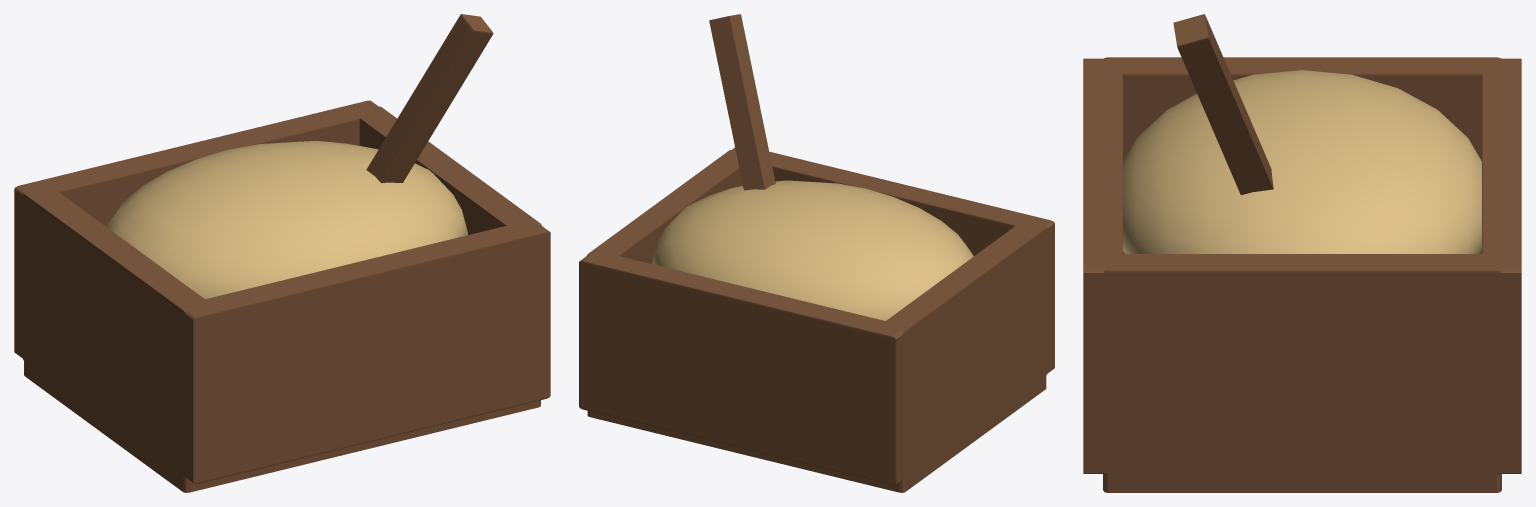
File: armory.glb
The picture shows the model from 3 angles, left to right: view 1: azimuth 30°, elevation 25°; view 2: azimuth 150°, elevation 25°; view 3: azimuth 270°, elevation 25°; orthographic projection. The views are drawn at different scales.
Parts seen in each view (by area): view 1: machines/armory; view 2: machines/armory; view 3: machines/armory.
Part boxes in pixels (x1,y1,x2,y2): machines/armory: (14, 14, 550, 492); machines/armory: (579, 14, 1054, 492); machines/armory: (1083, 14, 1521, 492).
Bounding box in the file's own units: 0.76 × 0.7563 × 0.66.
